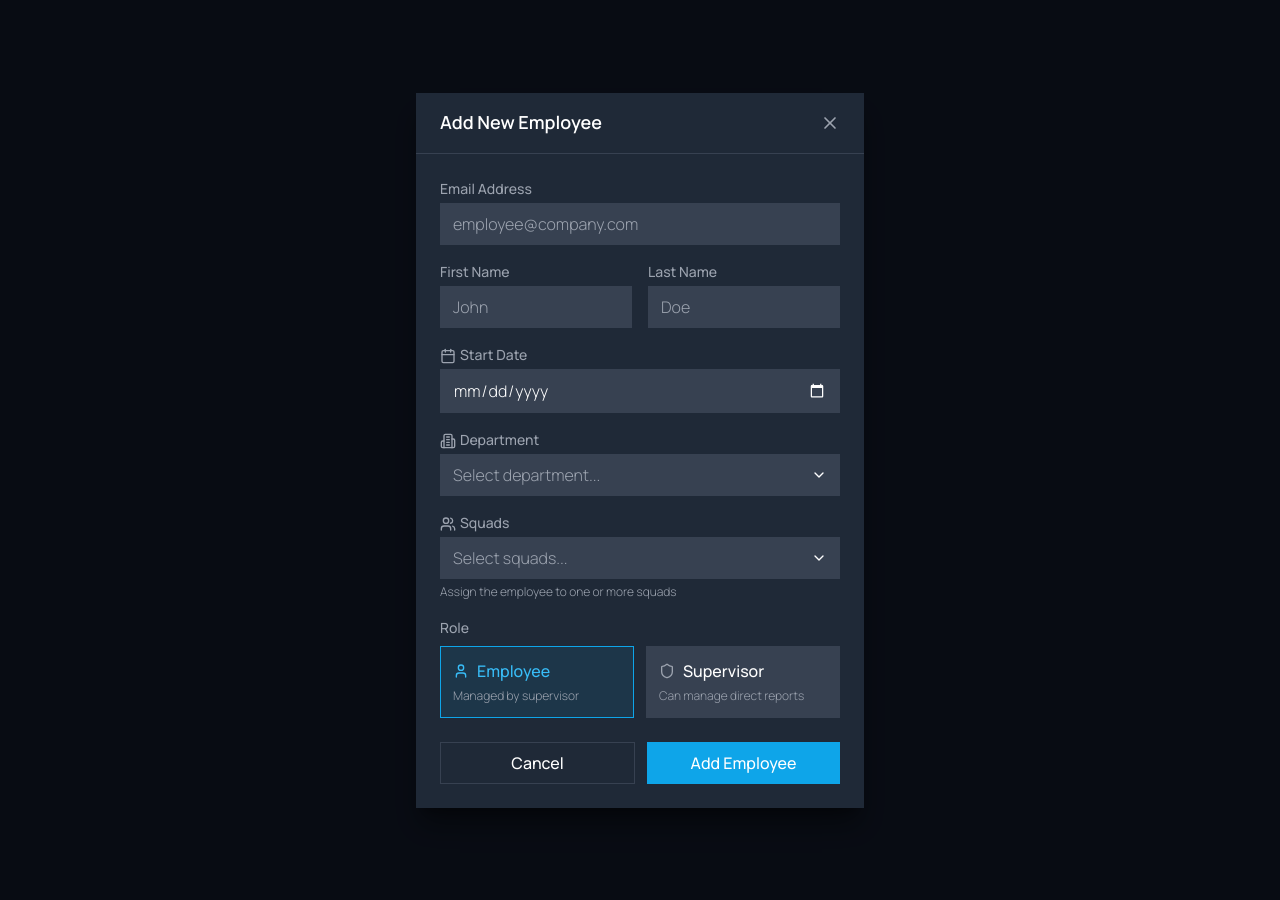
it: CreateEmployeeModal › department dropdown › filters departments by search
# Open dropdown
Click the button "Select department..." at point(527, 474), box [440,454,840,496]
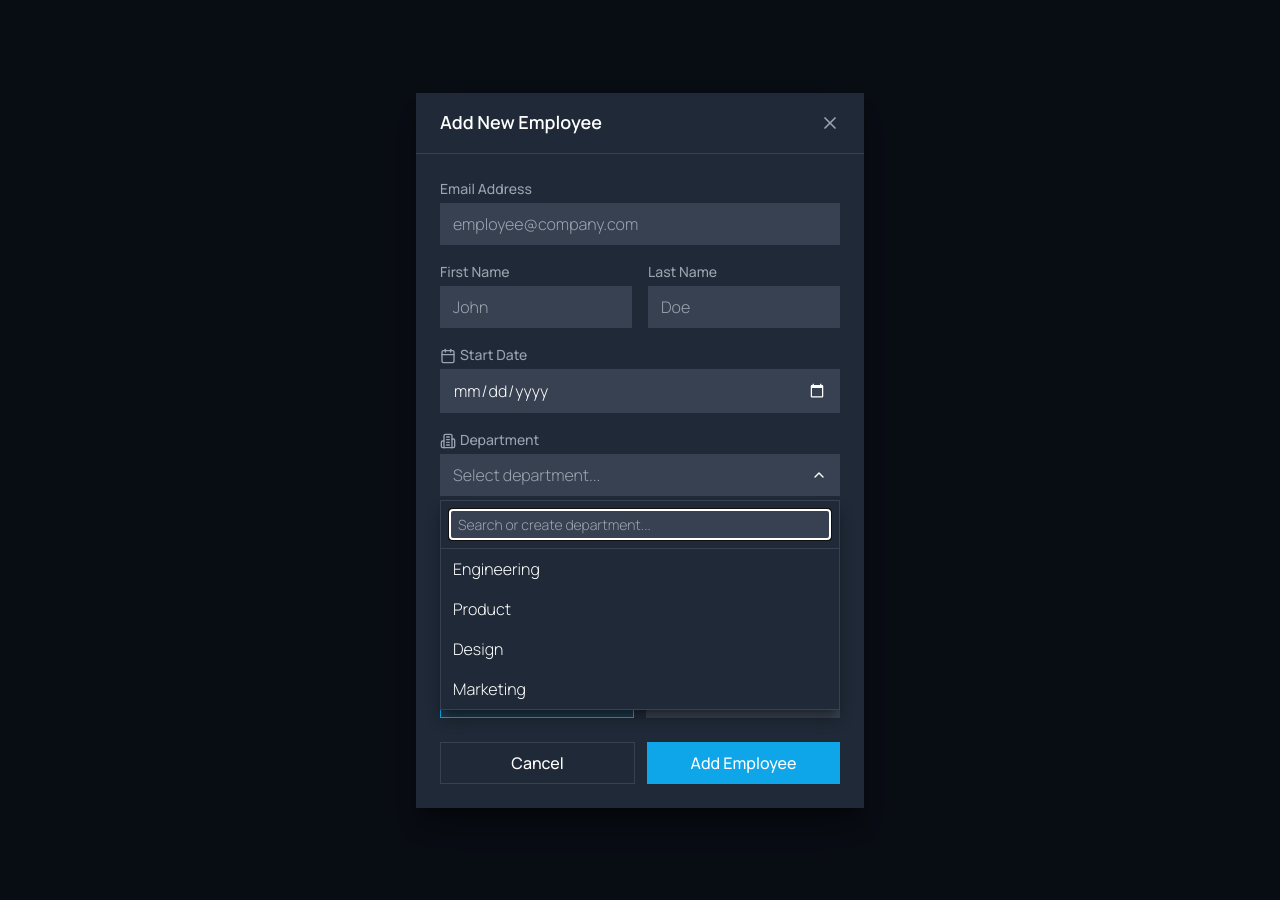
Type "Eng" into the field with placeholder "Search or create department..." at point(640, 524), box [449,508,831,540]
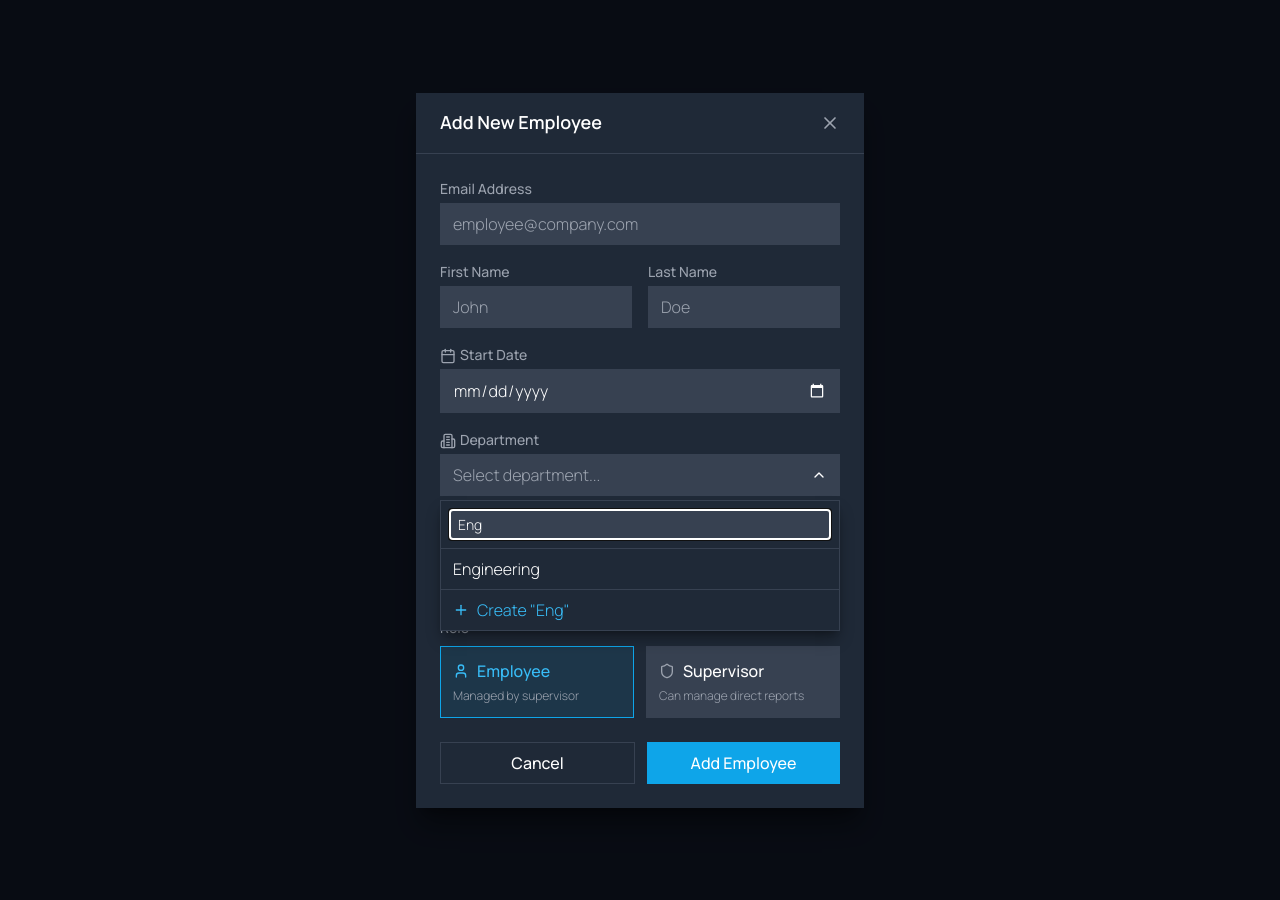
expect the button "Engineering" is shown: met, box [441,548,839,588]
expect the button "Product" is gone: met
